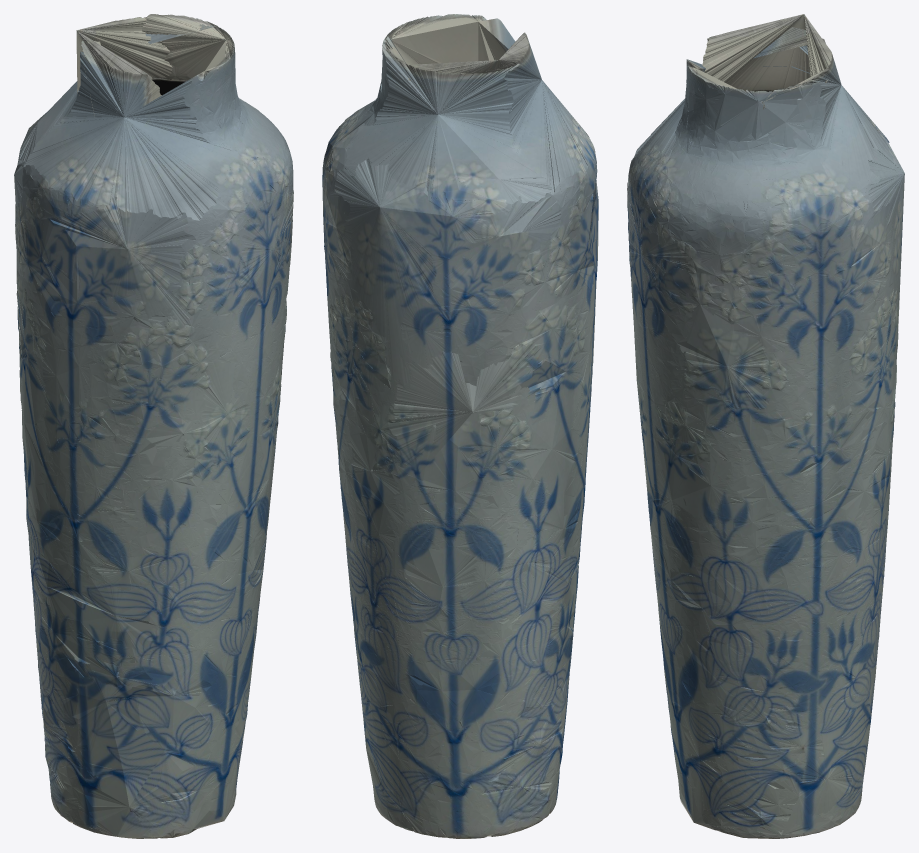
3 renders of one model, left to right at view 1: azimuth 30°, elevation 25°; view 2: azimuth 150°, elevation 25°; view 3: azimuth 270°, elevation 25°, orthographic.
Visible parts, largest first — view 1: geometry_0; view 2: geometry_0; view 3: geometry_0.
Part boxes in pixels (<box>): geometry_0: <box>14,14,293,838</box>; geometry_0: <box>322,14,598,838</box>; geometry_0: <box>627,14,904,838</box>.
Size of the model in its own units: 0.3287 by 1 by 0.3295.
1 material, 1 textured.
